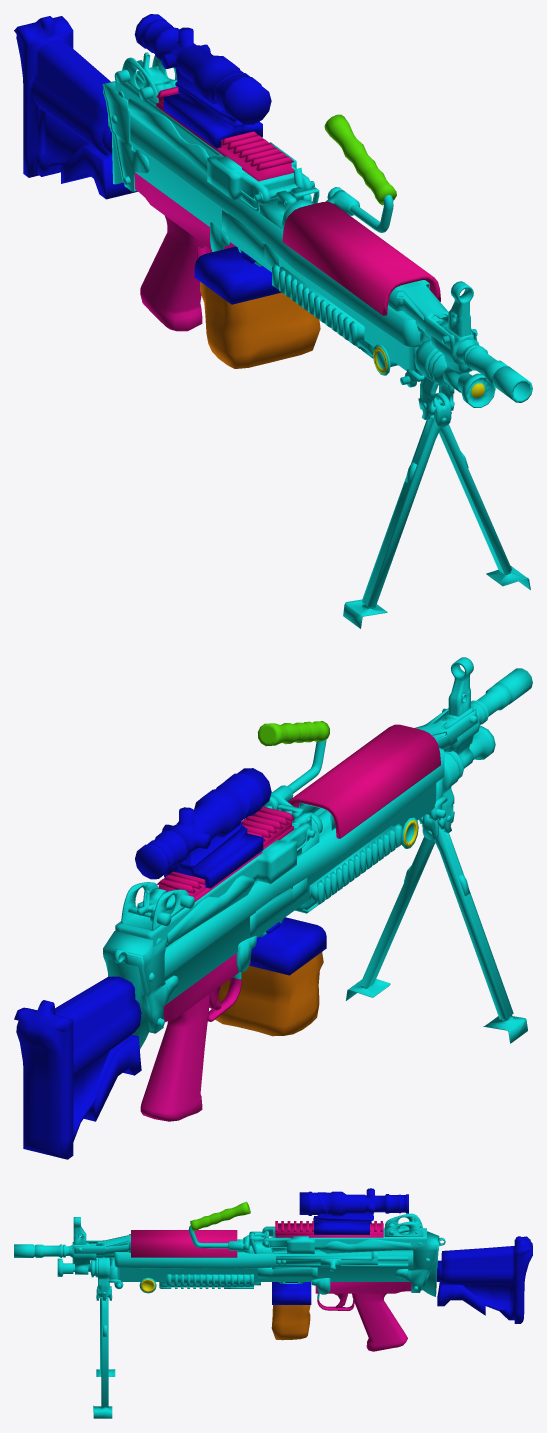
3 renders of one model, top to bottom at view 1: azimuth 30°, elevation 25°; view 2: azimuth 150°, elevation 25°; view 3: azimuth 270°, elevation 25°, orthographic. The views are drawn at different scales.
Parts seen in each view (by area): view 1: M249_lowpoly; view 2: M249_lowpoly; view 3: M249_lowpoly.
Boxes of the visible parts, x1,y1,x2,y2 form: M249_lowpoly: (14, 14, 532, 628); M249_lowpoly: (14, 657, 532, 1159); M249_lowpoly: (14, 1188, 532, 1418).
Size of the model in its own units: 192 by 426 by 969.
